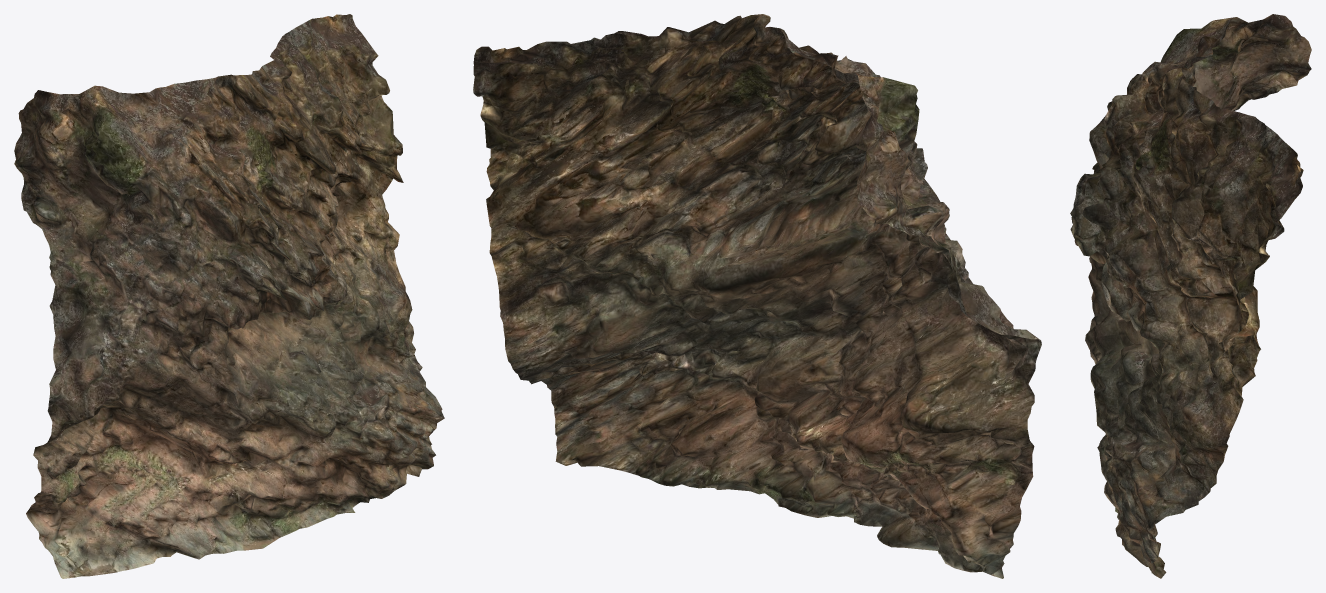
The model's file is mountainside-lod0.glb.
3 renders of one model, left to right at view 1: azimuth 30°, elevation 25°; view 2: azimuth 150°, elevation 25°; view 3: azimuth 270°, elevation 25°, orthographic. The views are drawn at different scales.
Parts seen in each view (by area): view 1: mountainside; view 2: mountainside; view 3: mountainside.
Part boxes in pixels (x1,y1,x2,y2): mountainside: [14, 14, 444, 578]; mountainside: [473, 14, 1041, 578]; mountainside: [1070, 14, 1311, 578].
Size of the model in its own units: 10.2 by 10.52 by 5.25.
Materials: 1 (1 with a texture image).
